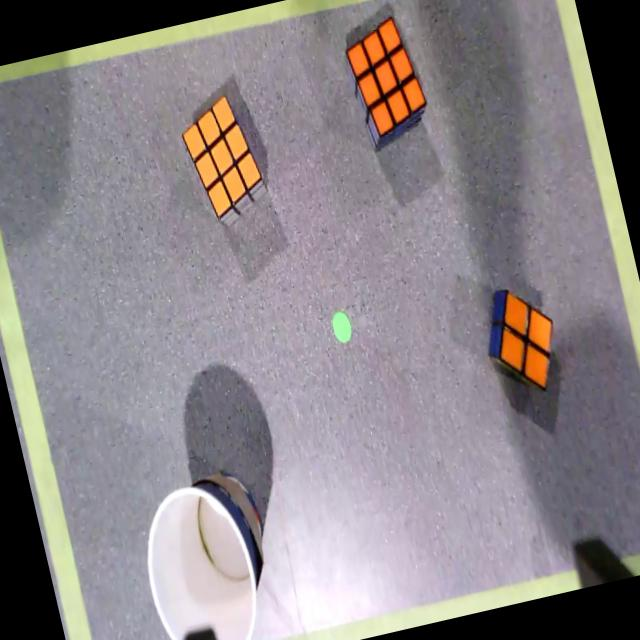cube2-orange: (501, 291, 552, 389)
cube3-orange: (182, 94, 261, 218), (346, 16, 426, 134)
